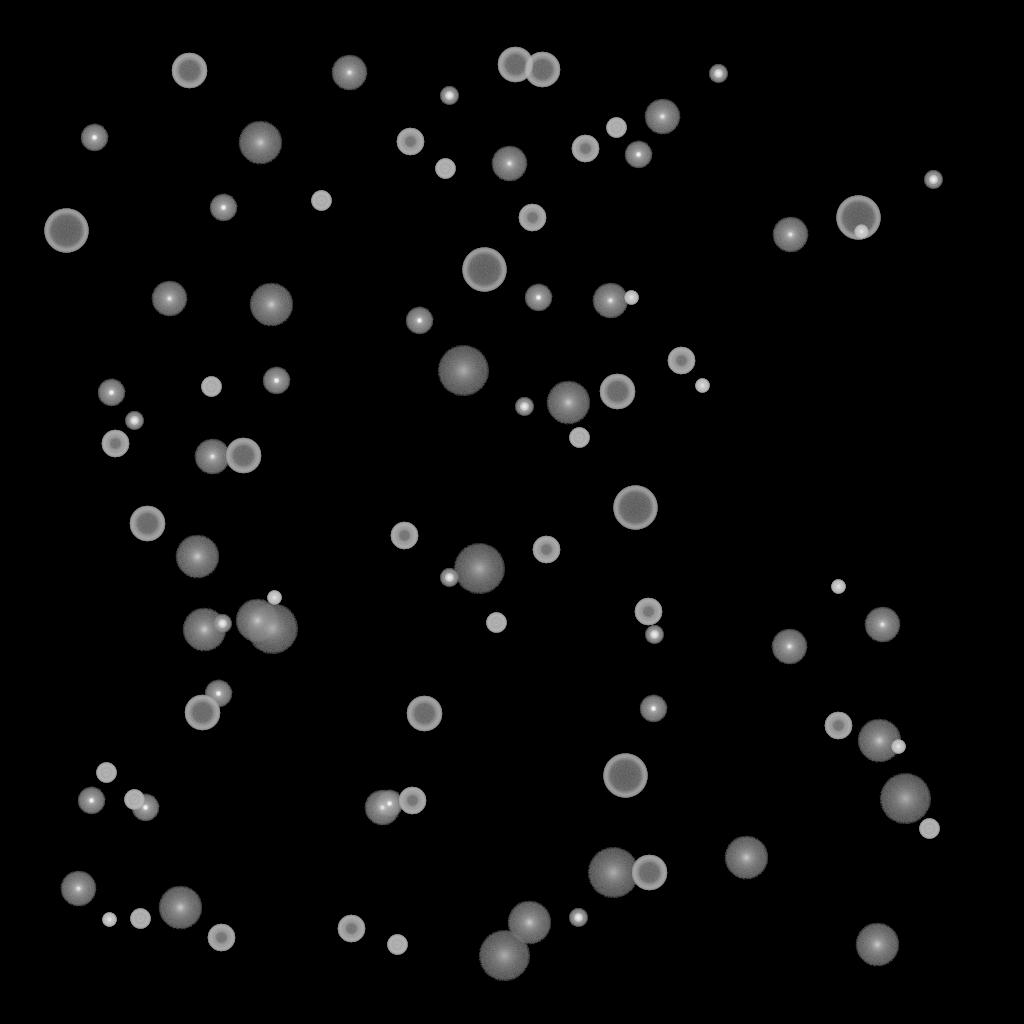depth:-10: (204, 680, 232, 708), (262, 367, 290, 395), (524, 284, 552, 312), (624, 141, 652, 169), (80, 124, 108, 152), (209, 194, 237, 222), (405, 307, 433, 335), (77, 787, 105, 815), (639, 695, 667, 723), (97, 379, 125, 407), (375, 790, 403, 818), (131, 794, 159, 822)
depth:-20: (440, 87, 458, 105), (569, 909, 587, 927), (440, 569, 458, 587), (515, 398, 533, 416), (213, 615, 231, 633), (709, 65, 727, 83), (645, 626, 663, 644), (125, 412, 143, 430), (924, 171, 942, 189)
depth:-30: (891, 740, 905, 754), (267, 591, 281, 605), (831, 580, 845, 594), (102, 913, 116, 927), (854, 225, 868, 239), (695, 379, 709, 393), (624, 291, 638, 305)
depth:-40: (919, 819, 939, 839), (96, 763, 116, 783), (130, 909, 150, 929), (486, 613, 506, 633), (124, 790, 144, 810), (435, 159, 455, 179), (606, 118, 626, 138), (387, 935, 407, 955), (569, 428, 589, 448), (311, 191, 331, 211), (201, 377, 221, 397)
depth:-50: (518, 204, 546, 232), (390, 522, 418, 550), (667, 347, 695, 375), (398, 787, 426, 815), (824, 712, 852, 740), (207, 924, 235, 952), (532, 536, 560, 564), (571, 135, 599, 163), (337, 915, 365, 943), (634, 598, 662, 626), (101, 430, 129, 458), (396, 128, 424, 156)
depth:-60: (631, 855, 667, 891), (524, 52, 560, 88), (171, 53, 207, 89), (599, 374, 635, 410), (497, 47, 533, 83), (406, 696, 442, 732), (129, 506, 165, 542), (225, 438, 261, 474), (184, 695, 220, 731)
depth:-70: (44, 209, 88, 253), (613, 486, 657, 530), (836, 196, 880, 240), (603, 754, 647, 798), (462, 248, 506, 292)
depth:0: (364, 790, 400, 826), (331, 55, 367, 91), (644, 99, 680, 135), (60, 871, 96, 907), (151, 281, 187, 317), (772, 217, 808, 253), (771, 629, 807, 665), (864, 607, 900, 643), (194, 439, 230, 475), (592, 283, 628, 319), (491, 146, 527, 182)
depth:10: (249, 283, 293, 327), (724, 836, 768, 880), (158, 886, 202, 930), (546, 381, 590, 425), (235, 599, 279, 643), (507, 901, 551, 945), (855, 923, 899, 967), (182, 608, 226, 652), (238, 121, 282, 165), (857, 719, 901, 763), (175, 535, 219, 579)
depth:20: (437, 346, 489, 396), (246, 604, 298, 654), (478, 931, 530, 981), (453, 544, 505, 594), (879, 774, 931, 824), (587, 848, 639, 898)
